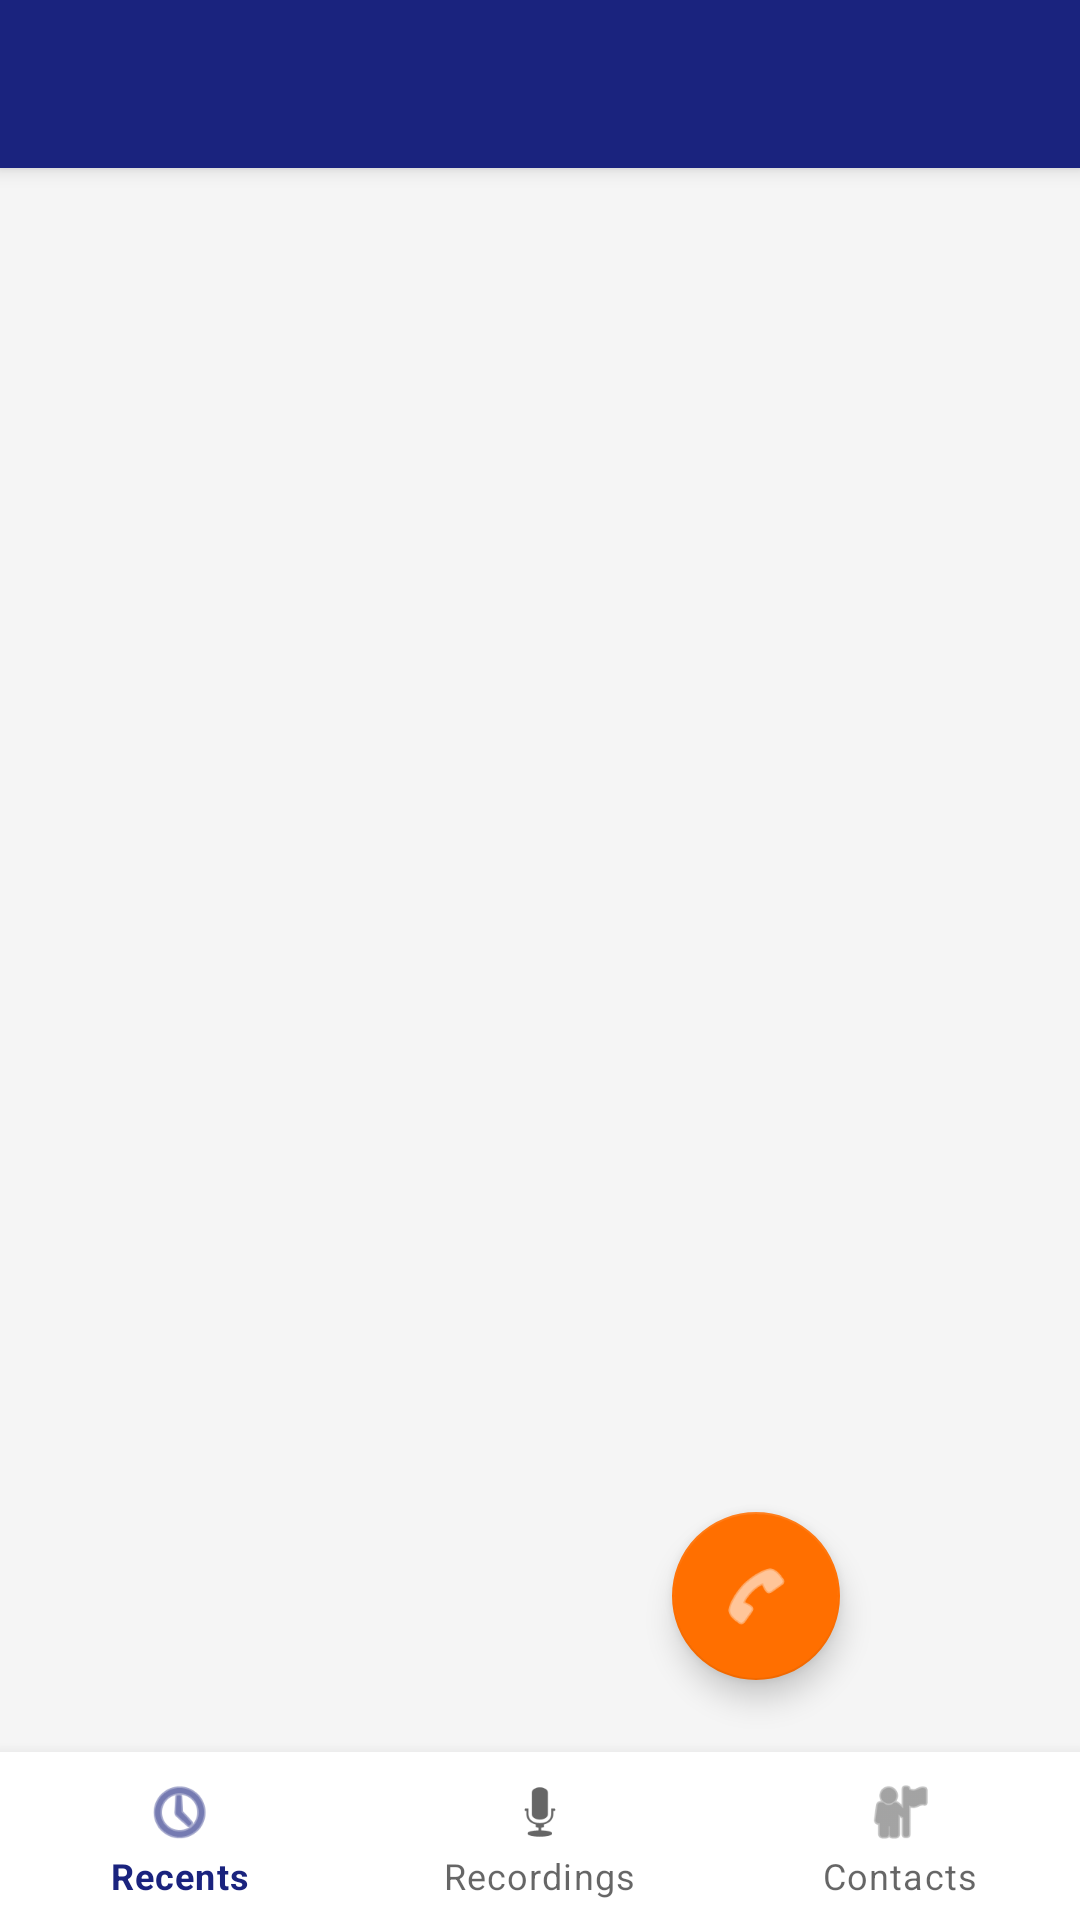

Icon click points for this 1080 x 1920 phone screenshot, format point (x, y):
call: point (756, 1596)
